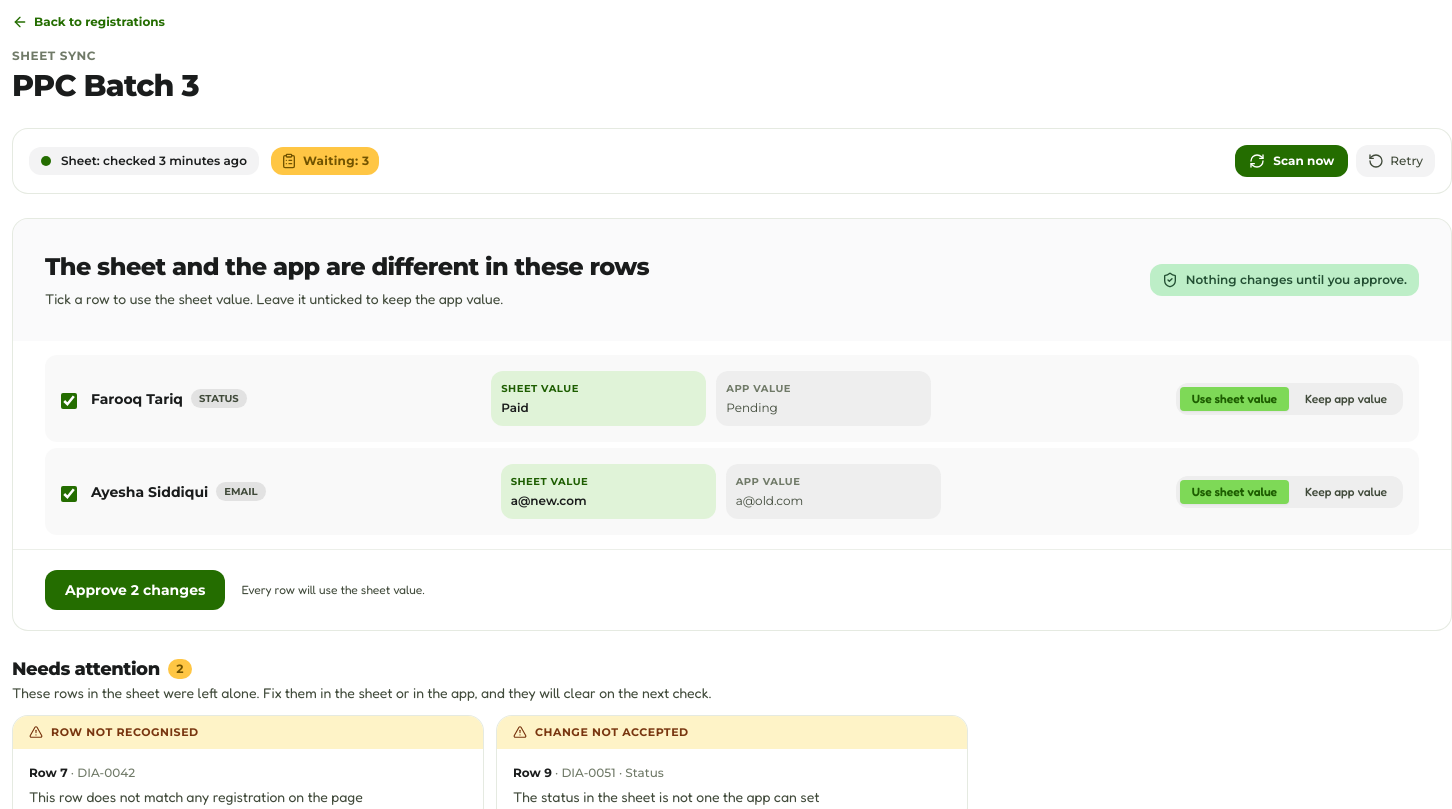
Test: SheetSyncPanel › Scan now posts to the scan route and shows the reply
Click the button "Scan now" at (1292, 161), box [1235, 145, 1348, 177]
Wait 6000 ms
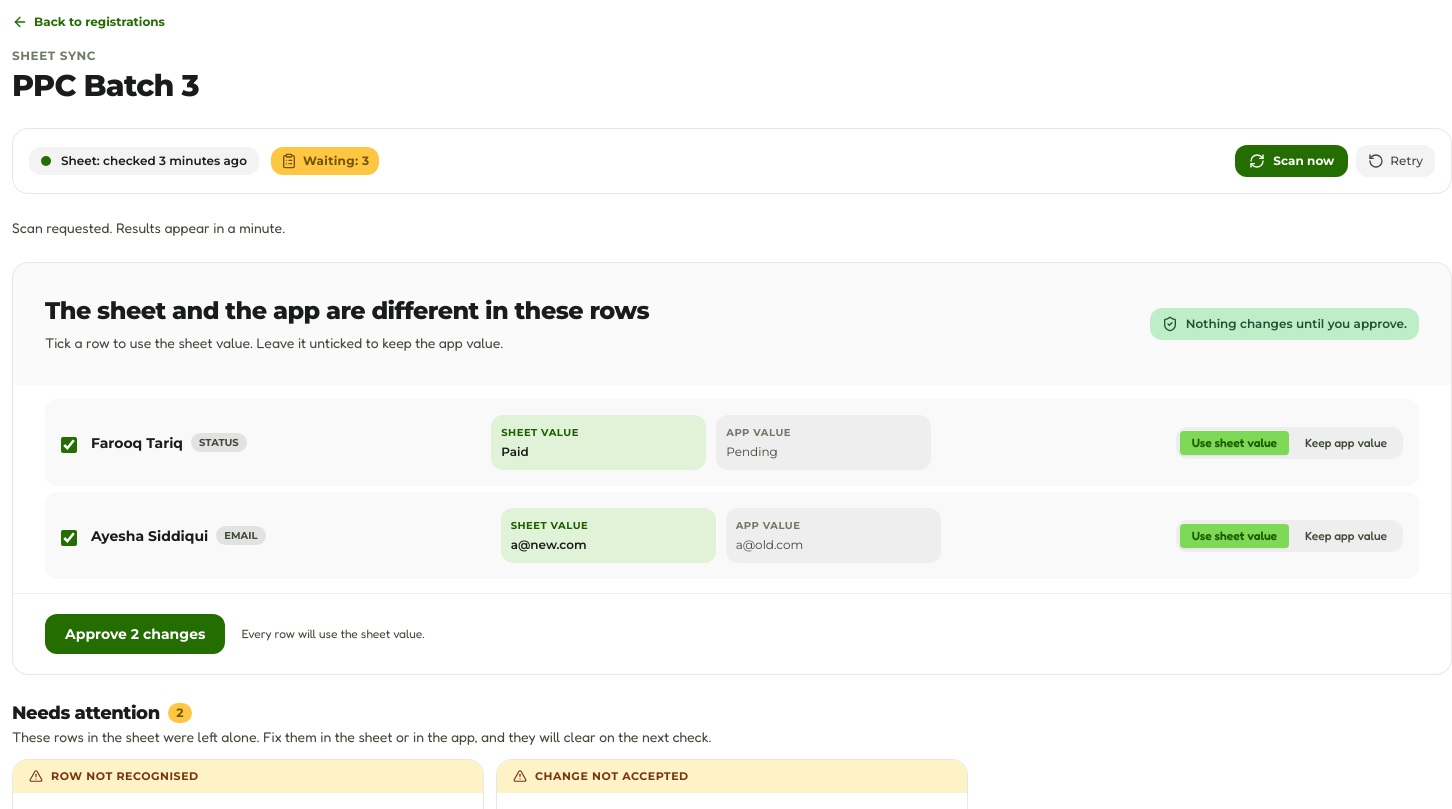
Expected: the text "Scan requested. Results appear in a minute." is shown, [12, 219, 285, 236]
